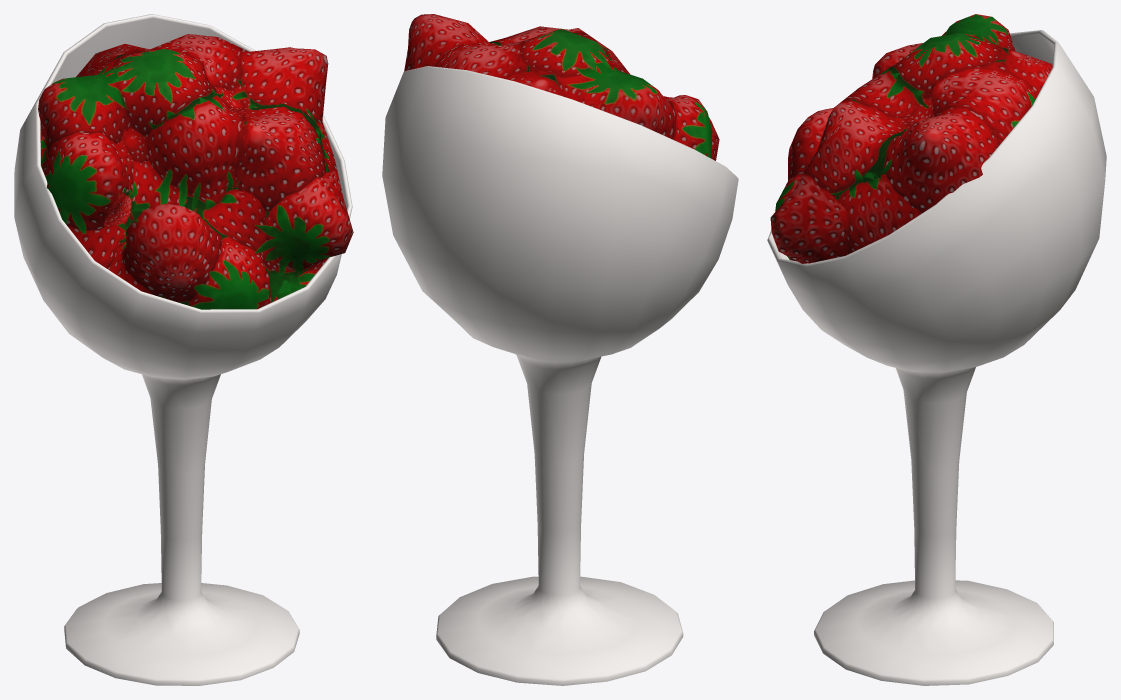
File: BuffetBarries01_1.FBX
The picture shows the model from 3 angles, left to right: view 1: azimuth 30°, elevation 25°; view 2: azimuth 150°, elevation 25°; view 3: azimuth 270°, elevation 25°; orthographic projection. The views are drawn at different scales.
Parts seen in each view (by area): view 1: BuffetBarries01_1; view 2: BuffetBarries01_1; view 3: BuffetBarries01_1.
Boxes of the visible parts, bbox=[...] form: BuffetBarries01_1: bbox=[14, 14, 353, 685]; BuffetBarries01_1: bbox=[382, 14, 738, 685]; BuffetBarries01_1: bbox=[767, 14, 1106, 685].
Size of what is drawn, in the model's own units: 0.1952 by 0.3723 by 0.1934.
